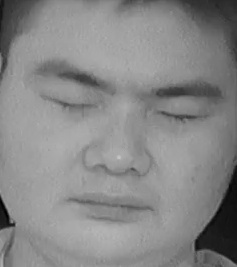blink: (43, 86, 103, 119), (155, 101, 204, 133)
mouth: (67, 183, 153, 226)
